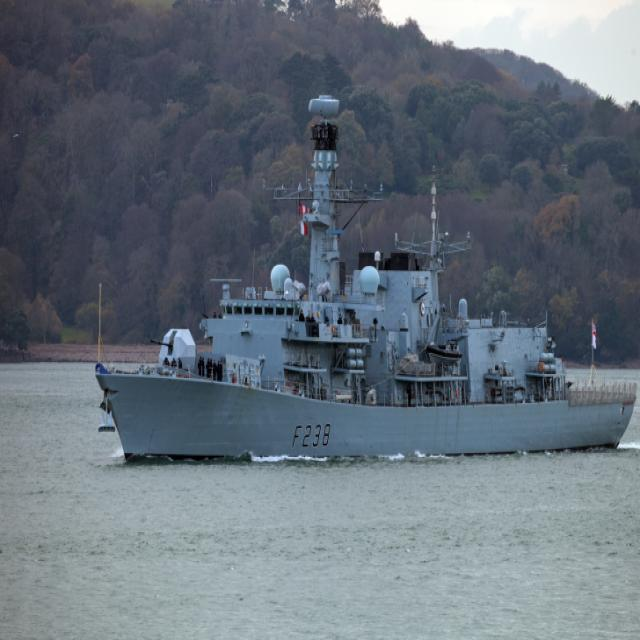Fragata: (96, 91, 640, 473)
